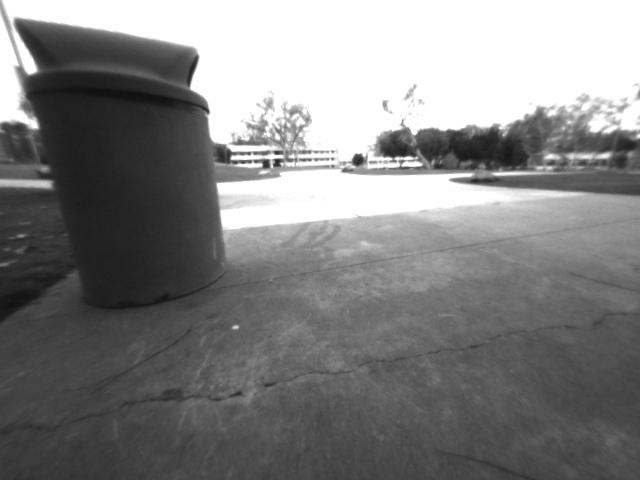trashcan: (4, 9, 249, 301)
